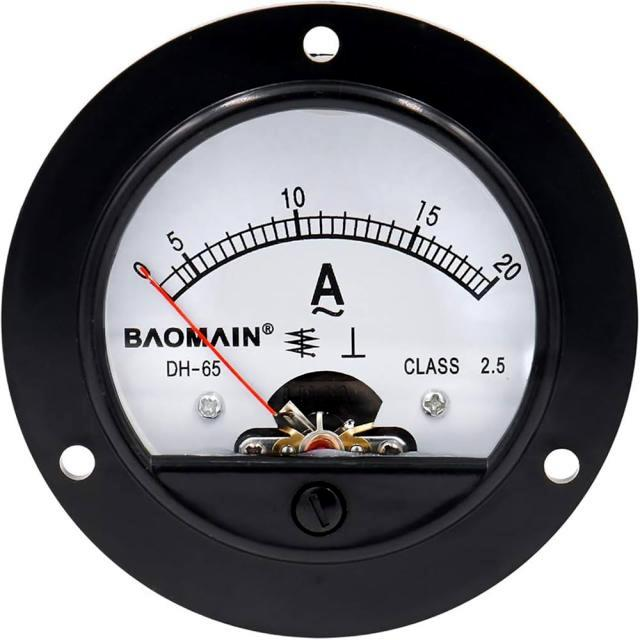Needle_Tip: (135, 252, 158, 290)
Needle_base: (261, 385, 386, 495)
max_value: (466, 235, 543, 312)
min_value: (123, 247, 199, 315)
